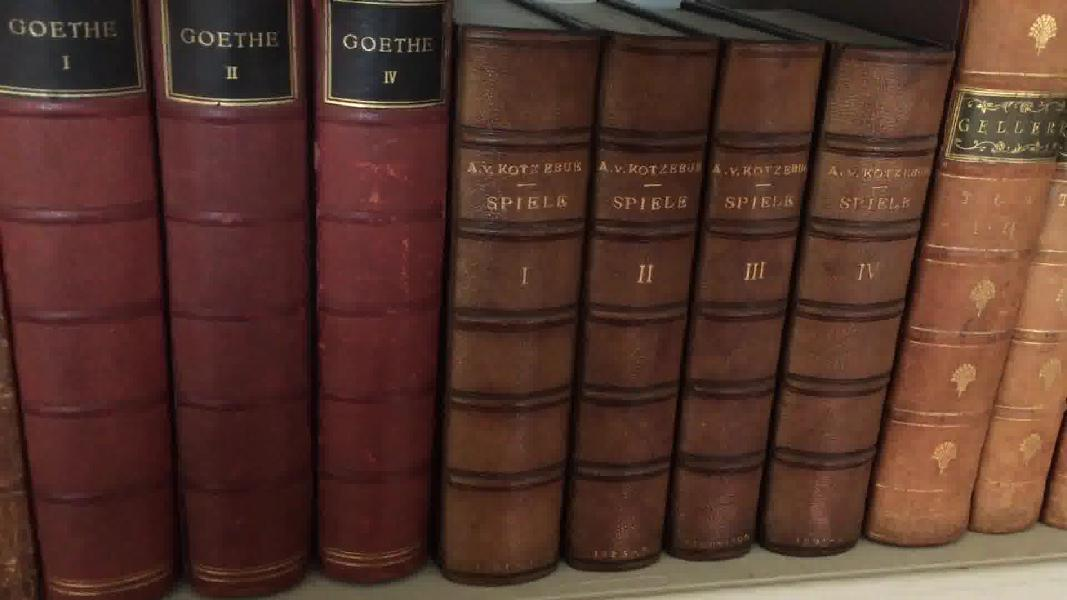Aa6-11_13: (1, 7, 445, 600)
Aa6-14_17: (447, 20, 965, 579)
